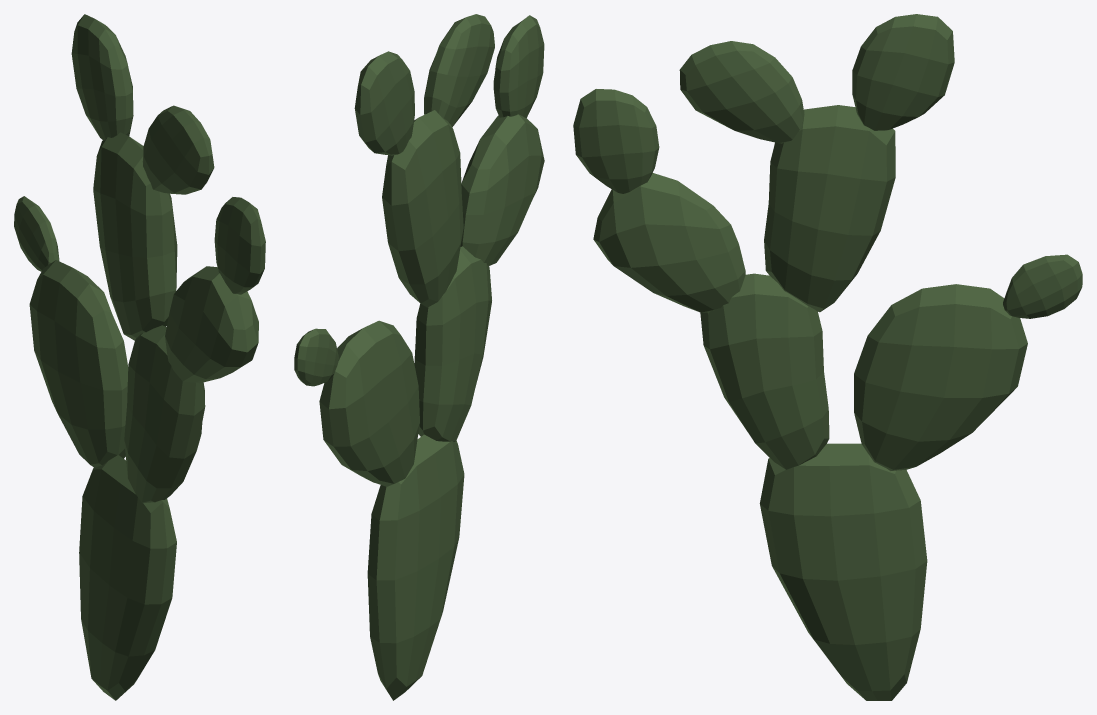
File: Cactus_4.glb
3 views of the same model, side by side, from view 1: azimuth 30°, elevation 25°; view 2: azimuth 150°, elevation 25°; view 3: azimuth 270°, elevation 25° (orthographic). The views are drawn at different scales.
Parts seen in each view (by area): view 1: Cactus_4_Cube.006; view 2: Cactus_4_Cube.006; view 3: Cactus_4_Cube.006.
Boxes of the visible parts, x1=… form: Cactus_4_Cube.006: x1=14, y1=14, x2=265, y2=700; Cactus_4_Cube.006: x1=294, y1=14, x2=544, y2=700; Cactus_4_Cube.006: x1=573, y1=14, x2=1082, y2=700.
Size of the model in its own units: 0.11 by 1.37 by 0.919.
